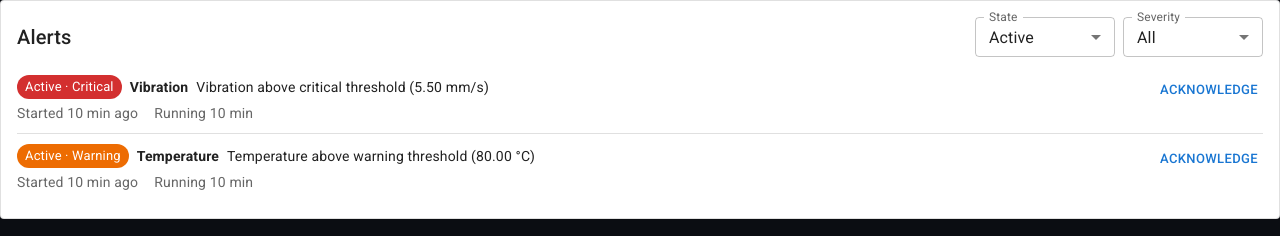
Test case: AlertList › filters by peak severity
Click the dropdown named "severity". click: (1146, 37)
box: [1137,28,1156,46]
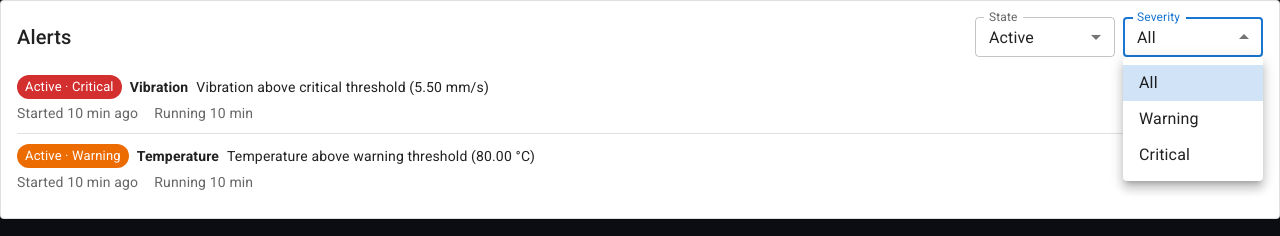
Click the option "Critical". click: (1164, 154)
box: [1139,145,1190,164]
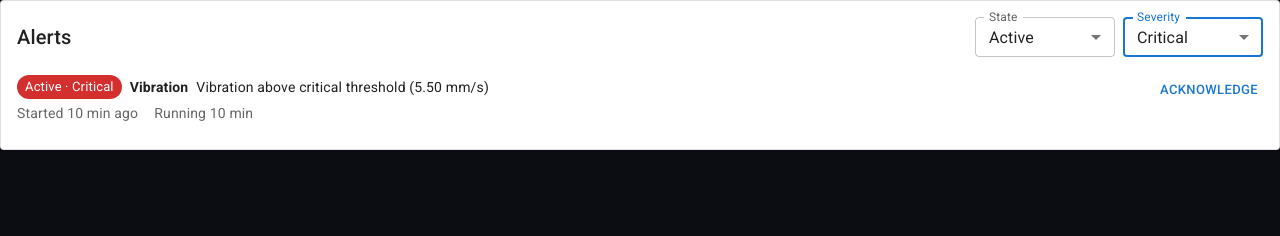
Expected: the list item with test id "alert-a1" is shown, [17,65,1263,133]
Result: the list item with test id "alert-a2" is gone
